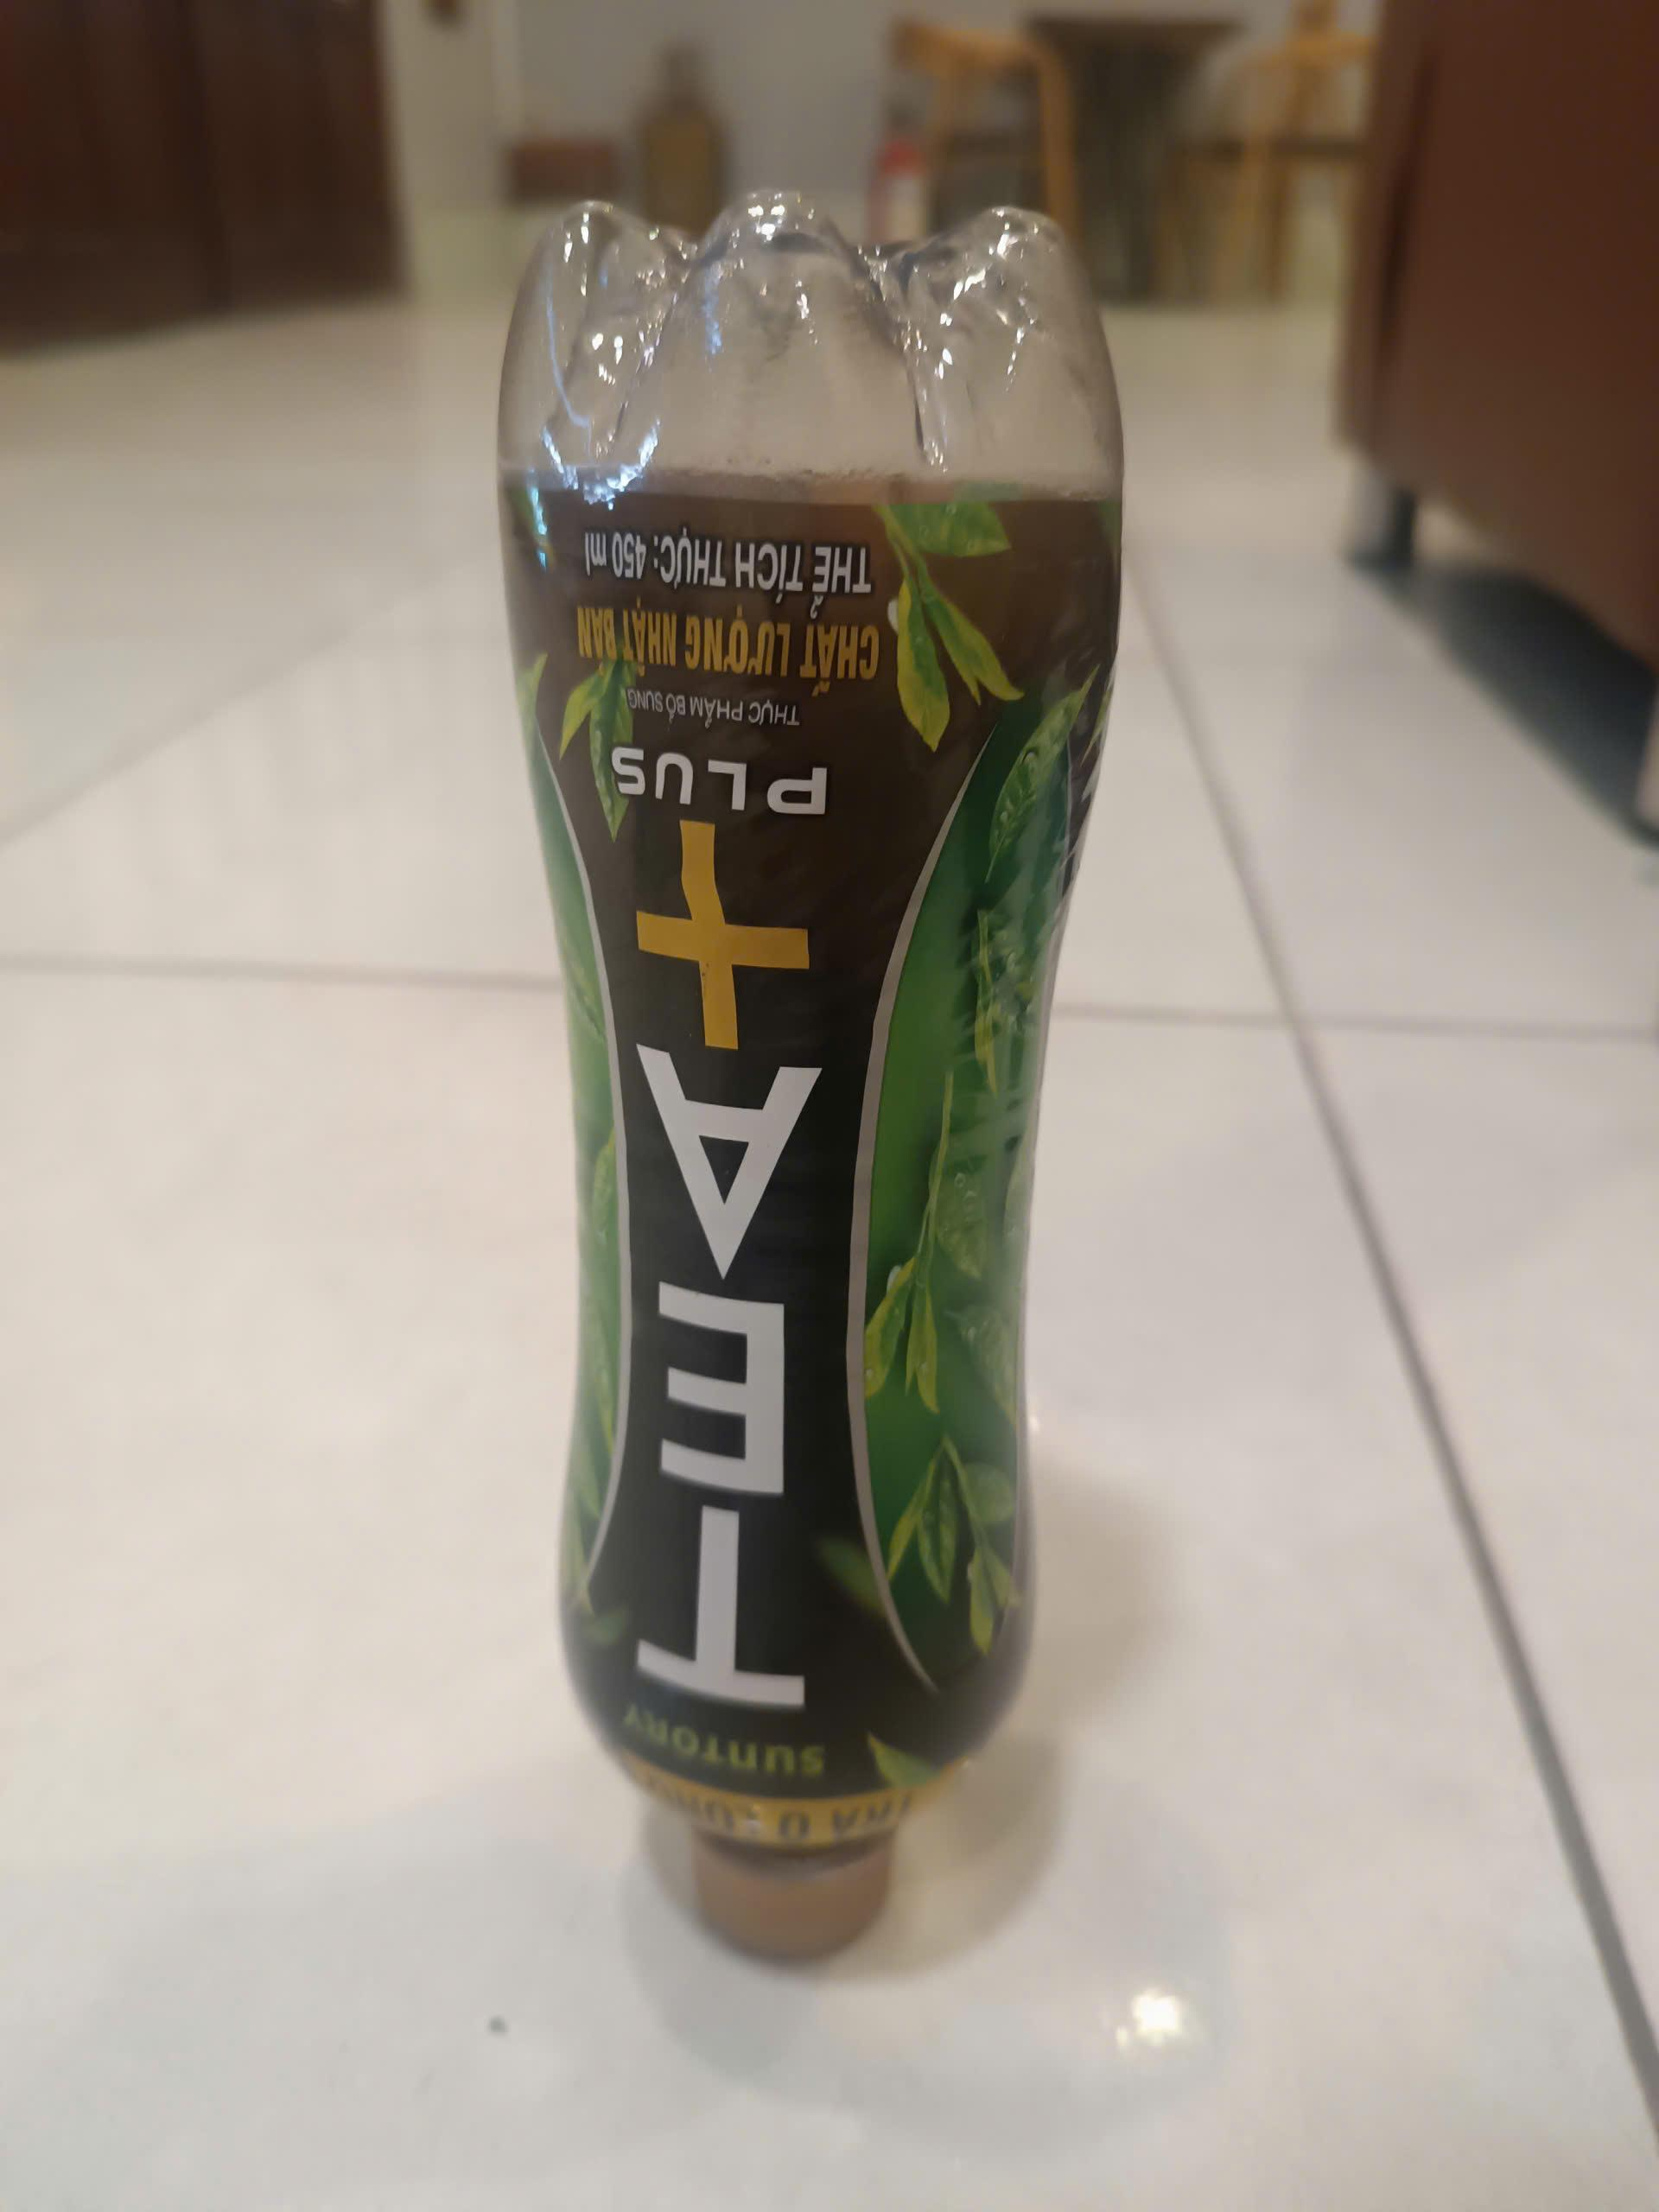Vo co: (493, 178, 1138, 1958)
